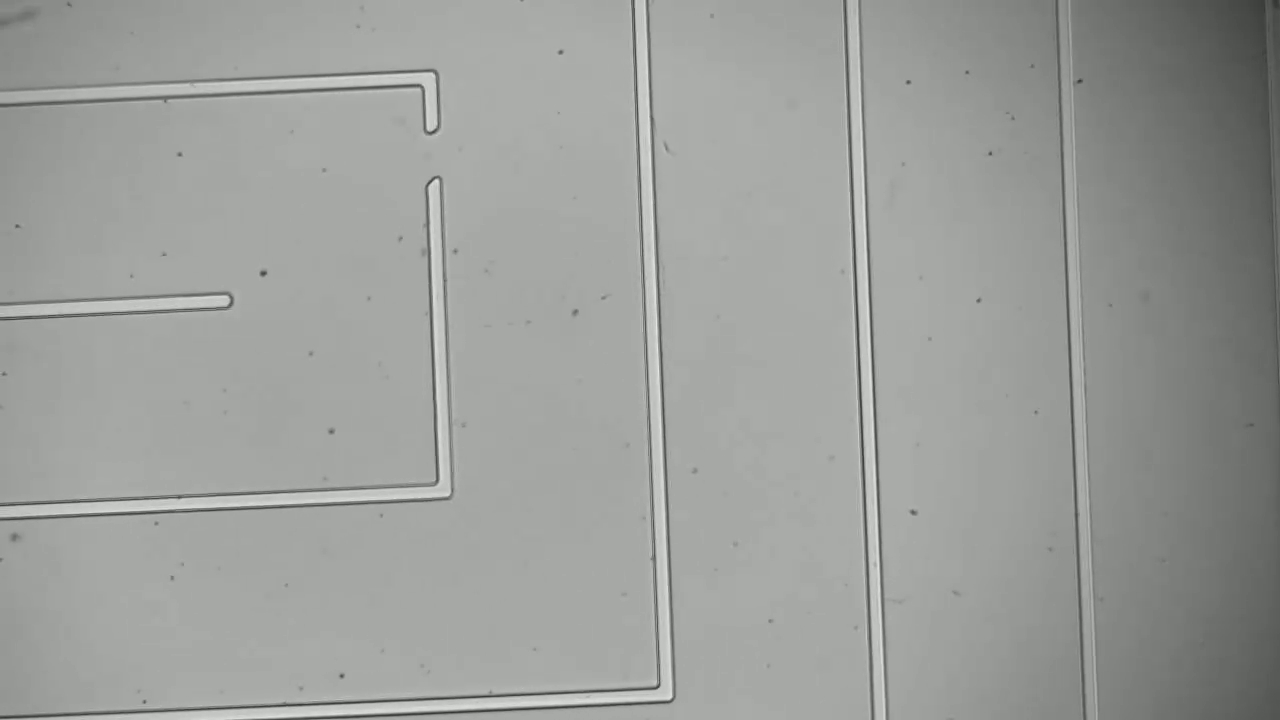open: (405, 108, 468, 210)
